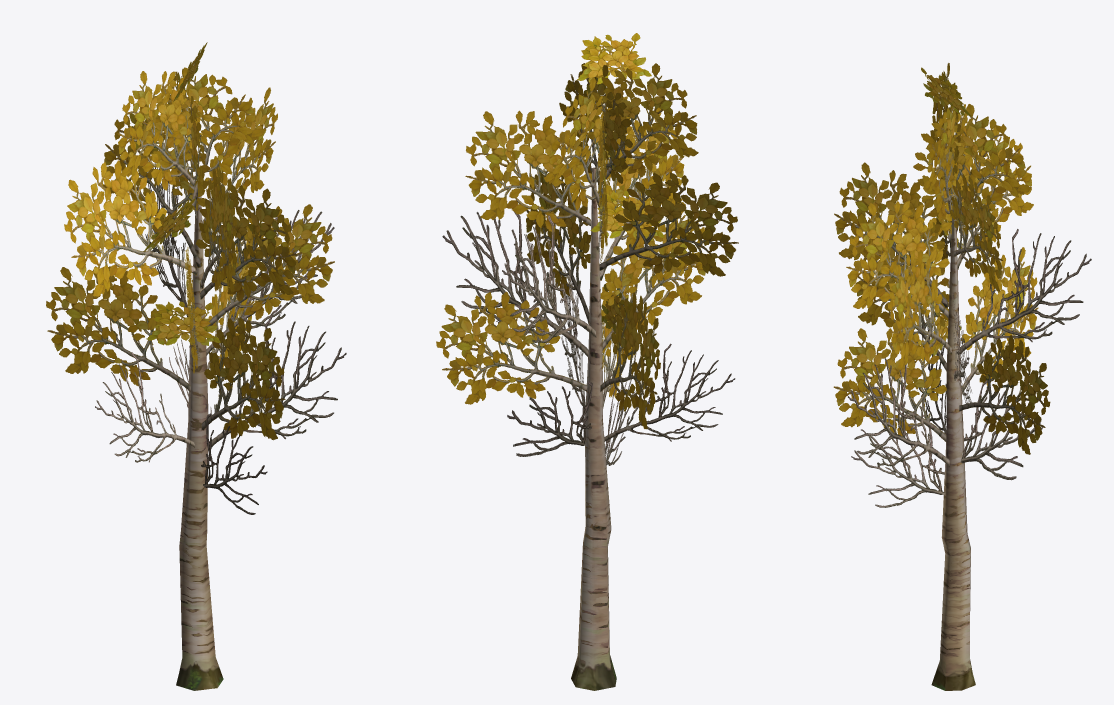
File: White_BirchC.FBX
3 views of the same model, side by side, from view 1: azimuth 30°, elevation 25°; view 2: azimuth 150°, elevation 25°; view 3: azimuth 270°, elevation 25° (orthographic). The views are drawn at different scales.
Visible parts, largest first — view 1: White_BirchC; view 2: White_BirchC; view 3: White_BirchC.
Part boxes in pixels (x1,y1,x2,y2): White_BirchC: (46,42,346,690); White_BirchC: (436,33,738,690); White_BirchC: (833,63,1091,690).
Bounding box in the file's own units: 634 × 1261 × 549.
